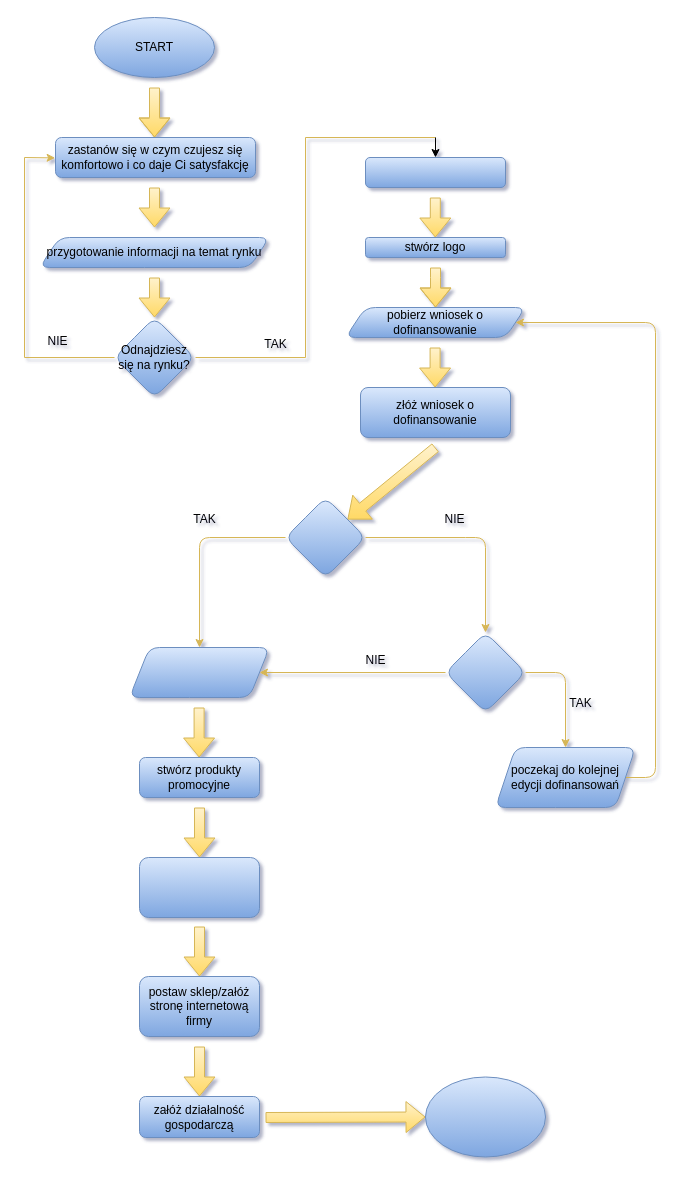
Image size: 687x1181. Some labels were removed from this diagram. Each missing label, with the centre of its shape:
Dostałeś dofinansowanie?: the point at 325,537
KONIEC: the point at 485,1116
Możesz wstrzymać się do następnej edycji dofinansowań?: the point at 485,672
stwórz profile identyfikujące twoją firmę/produkt w mediach: the point at 199,887
wymyśl nazwę firmy/produktu: the point at 435,172
zaplanuj kampanię reklamową: the point at 199,672
